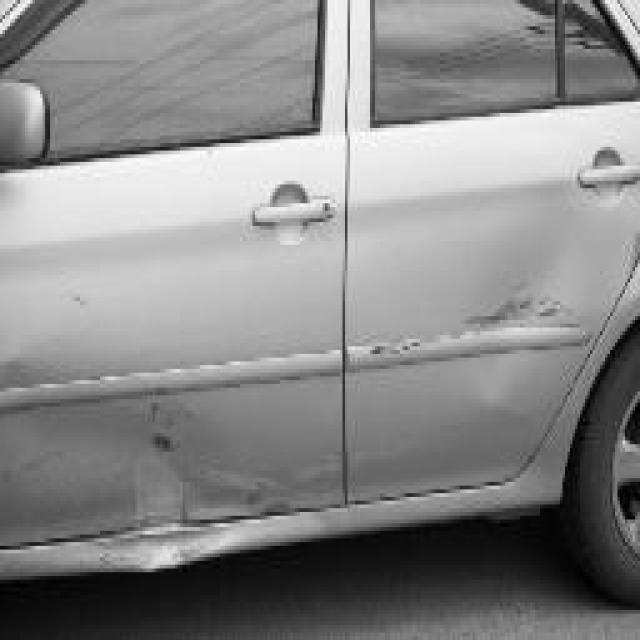Door: (5, 343, 348, 565), (370, 279, 600, 388)
